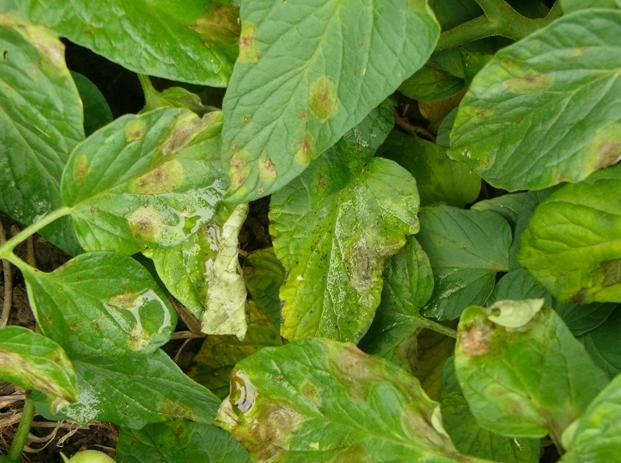Tomato Early blight leaf: (273, 124, 418, 349), (443, 20, 621, 202), (220, 348, 451, 463), (65, 107, 228, 256), (458, 293, 594, 463), (499, 159, 621, 297)
